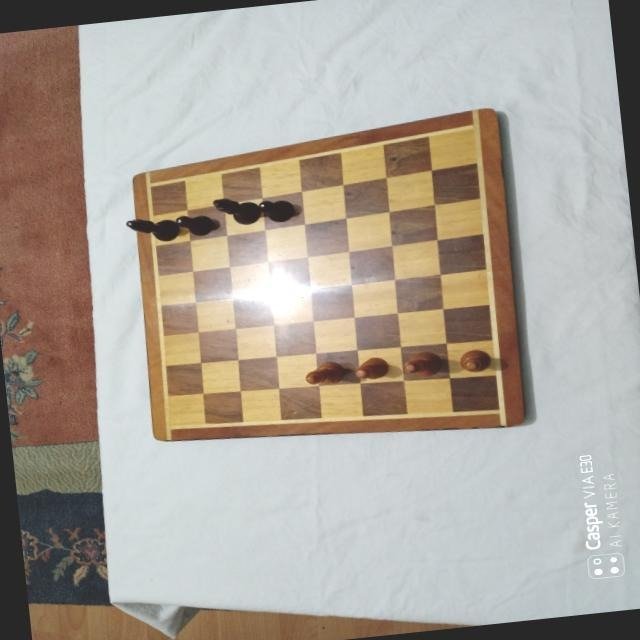black-bishop: (210, 192, 261, 227), (124, 213, 179, 244)
black-pawn: (173, 210, 215, 237), (256, 196, 296, 224)
white-bishop: (401, 349, 443, 379), (303, 358, 345, 386)
white-pawn: (352, 354, 388, 380), (458, 347, 492, 373)
